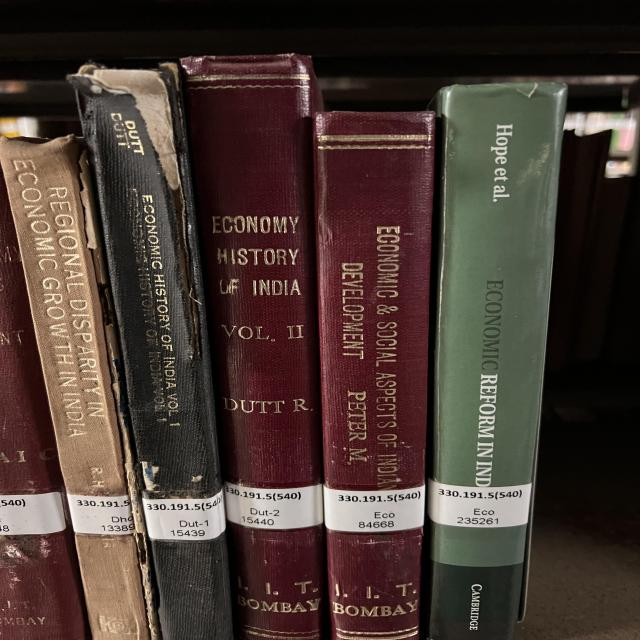Book: (70, 65, 233, 640), (182, 54, 323, 640), (428, 82, 567, 640), (0, 135, 152, 640), (315, 112, 435, 640), (0, 174, 90, 640)
Label: (428, 480, 532, 528), (323, 486, 425, 532), (225, 482, 323, 529), (142, 490, 225, 540), (0, 491, 65, 535), (67, 494, 133, 535)
